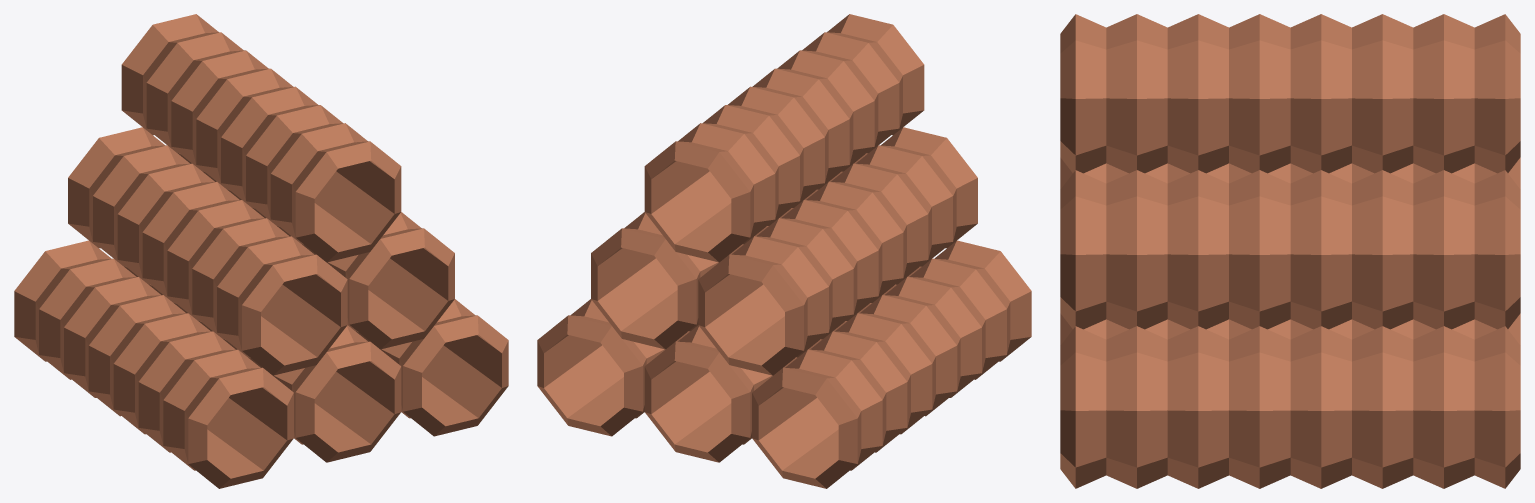
The model's file is construction-pipe-wrinkled-stack.glb.
3 renders of one model, left to right at view 1: azimuth 30°, elevation 25°; view 2: azimuth 150°, elevation 25°; view 3: azimuth 270°, elevation 25°, orthographic. The views are drawn at different scales.
Parts seen in each view (by area): view 1: pipe-wrinkled-stack; view 2: pipe-wrinkled-stack; view 3: pipe-wrinkled-stack.
Part boxes in pixels (<box>): pipe-wrinkled-stack: <box>14,14,508,488</box>; pipe-wrinkled-stack: <box>537,14,1031,488</box>; pipe-wrinkled-stack: <box>1060,14,1520,488</box>.
Size of the model in its own units: 1.79 by 1.66 by 1.8.
